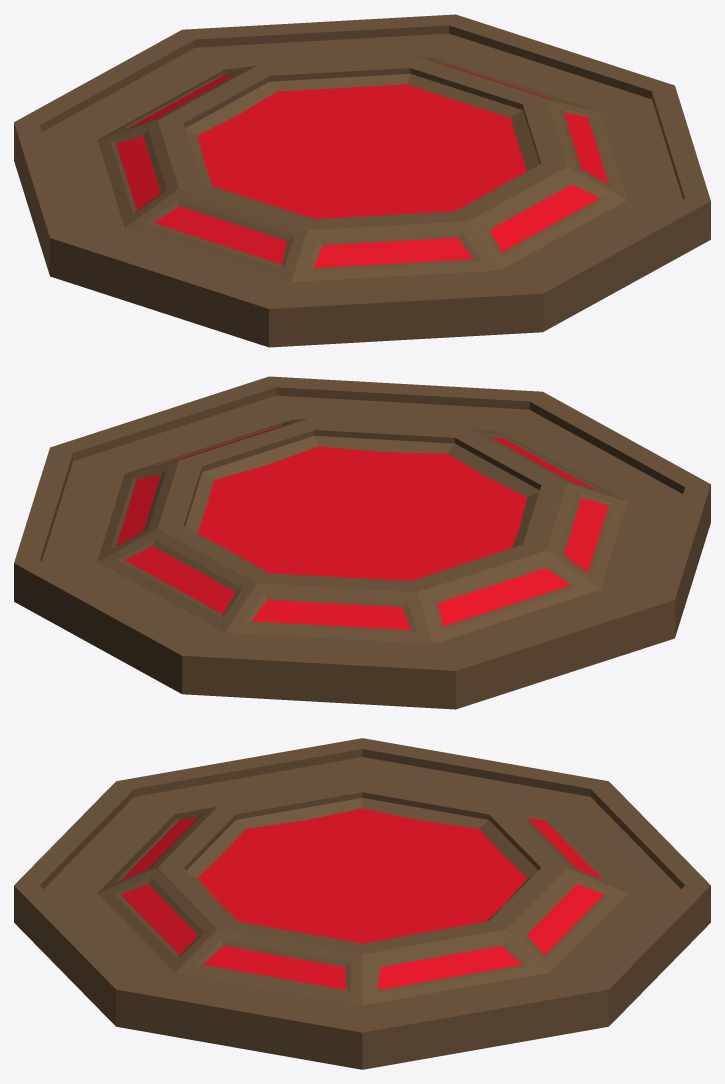
The model's file is Waypoint.fbx.
The picture shows the model from 3 angles, top to bottom: view 1: azimuth 30°, elevation 25°; view 2: azimuth 150°, elevation 25°; view 3: azimuth 270°, elevation 25°; orthographic projection. The views are drawn at different scales.
Parts seen in each view (by area): view 1: Waypoint_01; view 2: Waypoint_01; view 3: Waypoint_01.
Part boxes in pixels (x1,y1,x2,y2): Waypoint_01: (14, 14, 710, 347); Waypoint_01: (14, 376, 710, 709); Waypoint_01: (14, 738, 710, 1069).
Size of the model in its own units: 511 by 44.24 by 511.
